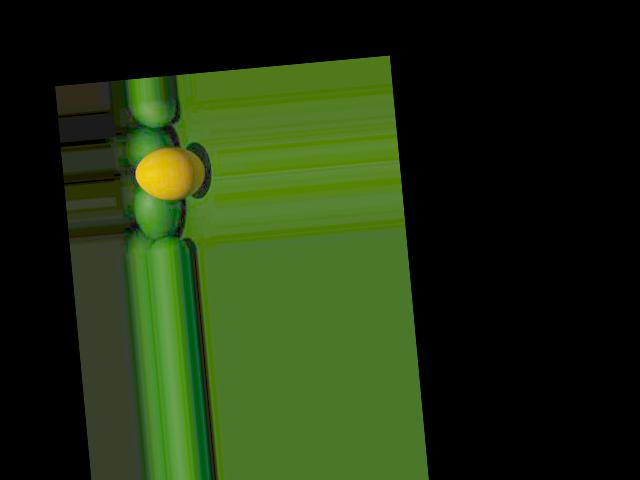egg: (133, 144, 207, 203)
